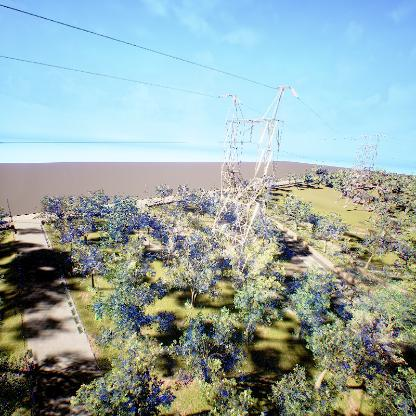tower: (204, 80, 296, 255)
